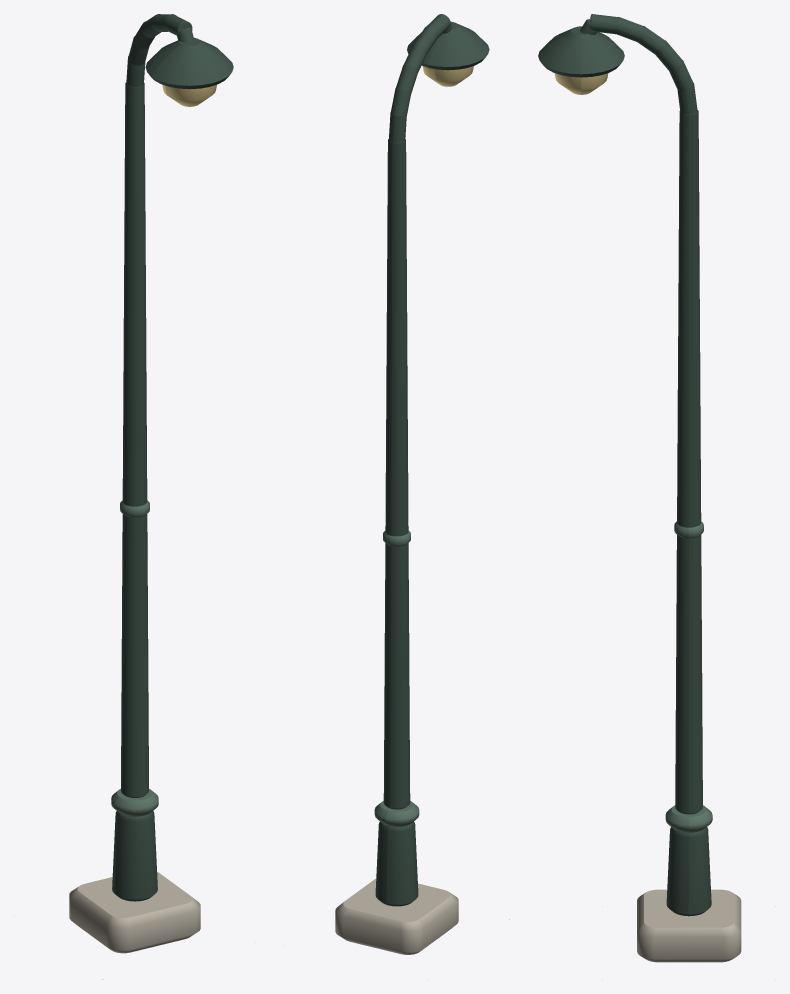
File: lampadaire.glb
3 views of the same model, side by side, from view 1: azimuth 30°, elevation 25°; view 2: azimuth 150°, elevation 25°; view 3: azimuth 270°, elevation 25° (orthographic). The views are drawn at different scales.
Visible parts, largest first — view 1: pieces_lampadaire.002, pieces_socle_beton.008, pieces_lampadaire_clair.002, voyant_lampe_lampe_globe.002; view 2: pieces_lampadaire.002, pieces_socle_beton.008, pieces_lampadaire_clair.002, voyant_lampe_lampe_globe.002; view 3: pieces_lampadaire.002, pieces_socle_beton.008, pieces_lampadaire_clair.002, voyant_lampe_lampe_globe.002.
Boxes of the visible parts, x1=… form: pieces_lampadaire.002: x1=112, y1=14, x2=233, y2=901; pieces_socle_beton.008: x1=69, y1=872, x2=200, y2=953; pieces_lampadaire_clair.002: x1=111, y1=500, x2=158, y2=816; voyant_lampe_lampe_globe.002: x1=162, y1=84, x2=216, y2=106; pieces_lampadaire.002: x1=375, y1=14, x2=489, y2=906; pieces_socle_beton.008: x1=335, y1=879, x2=458, y2=954; pieces_lampadaire_clair.002: x1=374, y1=531, x2=419, y2=826; voyant_lampe_lampe_globe.002: x1=422, y1=66, x2=473, y2=86; pieces_lampadaire.002: x1=538, y1=14, x2=711, y2=916; pieces_socle_beton.008: x1=637, y1=889, x2=741, y2=962; pieces_lampadaire_clair.002: x1=665, y1=521, x2=712, y2=832; voyant_lampe_lampe_globe.002: x1=554, y1=73, x2=608, y2=94.
Size of the model in its own units: 0.5 by 2.95 by 0.685.
